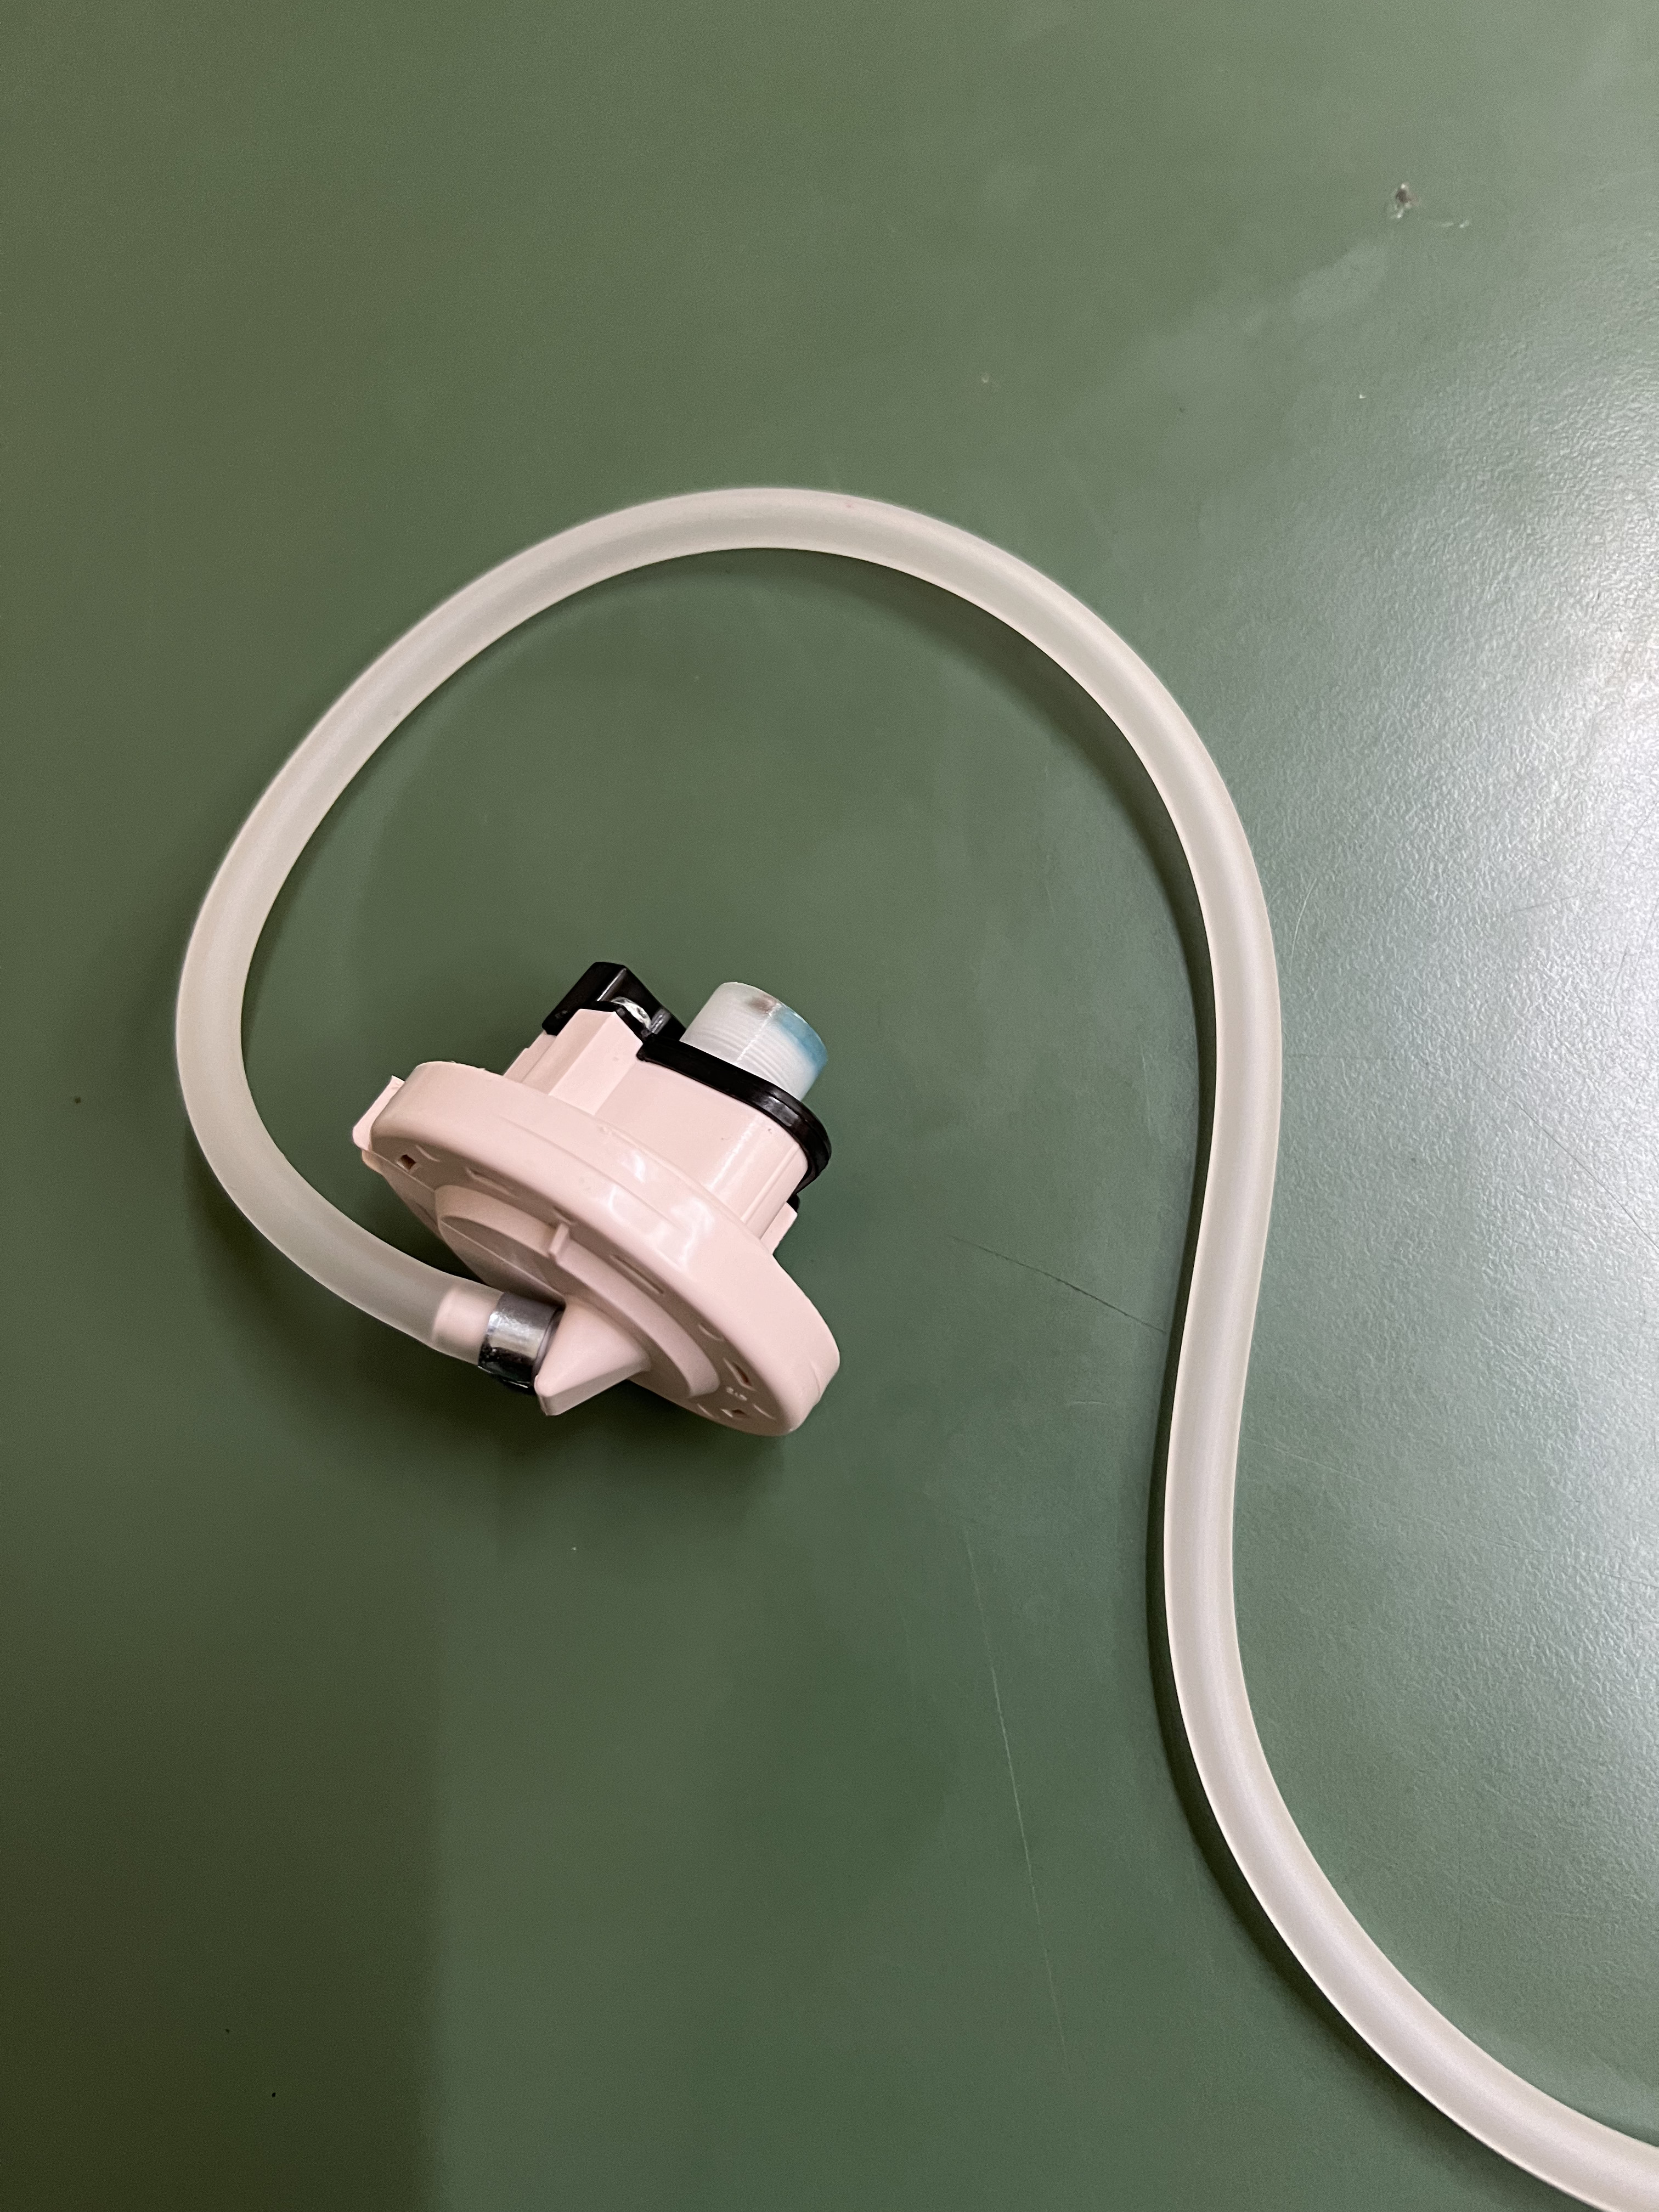pressure_sensor: (166, 472, 1297, 1444)
